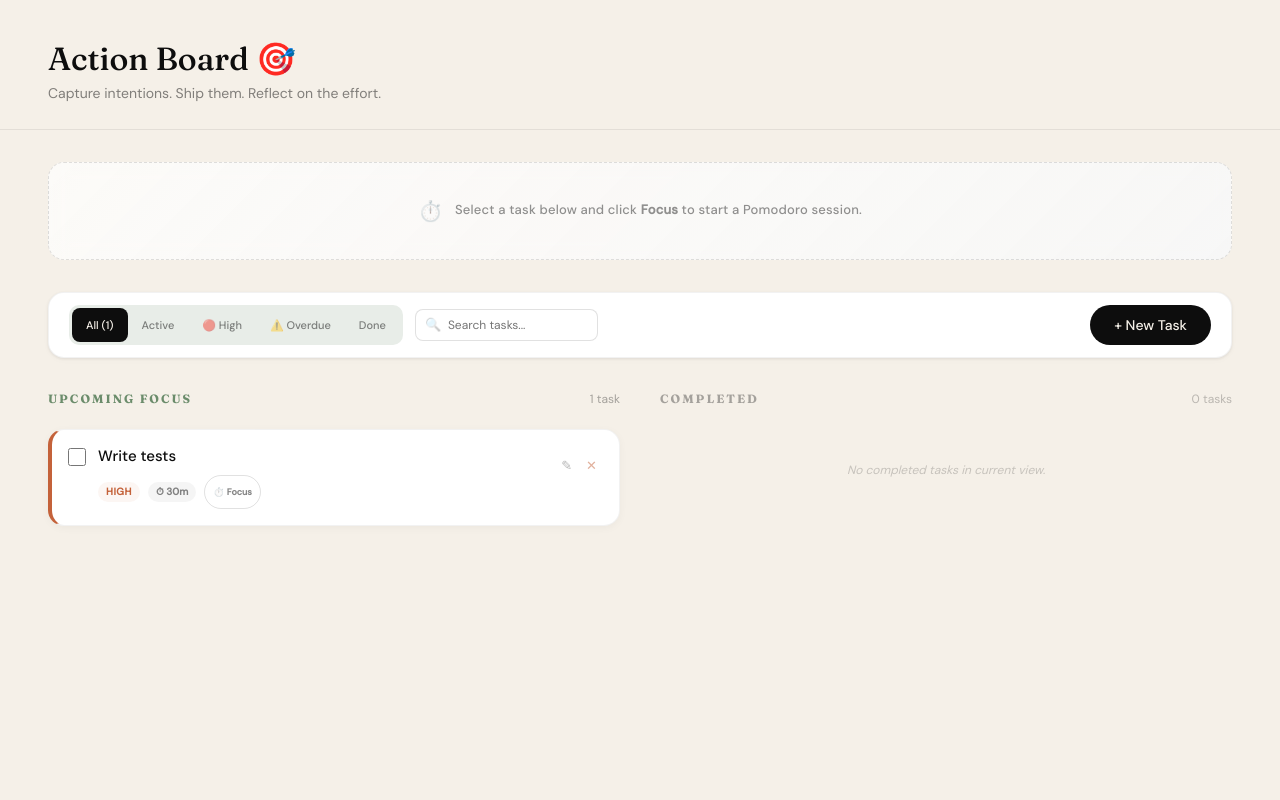
completes the focused task with the actual time
Click the button "⏱️ Focus": (233, 492) [204,475,261,509]
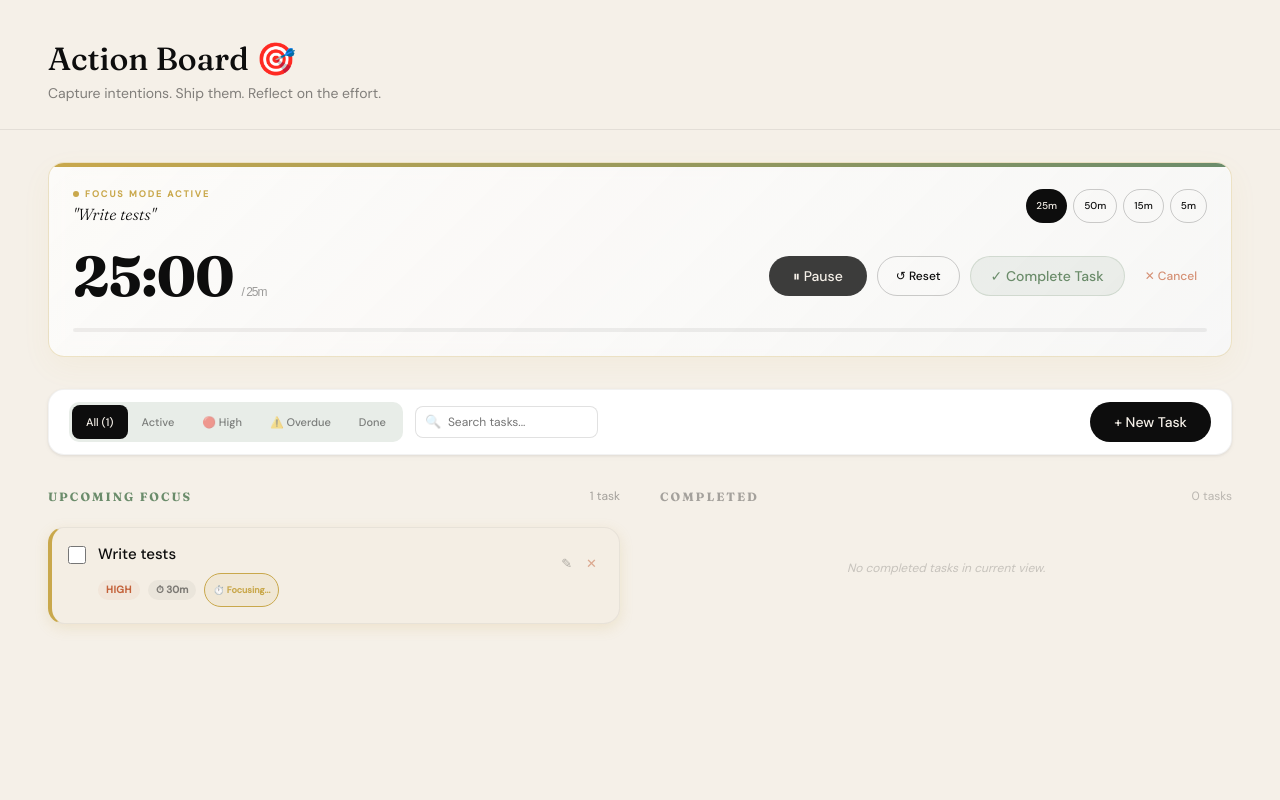
Check: the heading "\"Write tests\"" is shown, box [73,204,156,224]
Check: the text "Focus Mode Active" is shown, box [73,187,210,201]
Click the button "✓ Complete Task": (1047, 276) [970,256,1125,296]
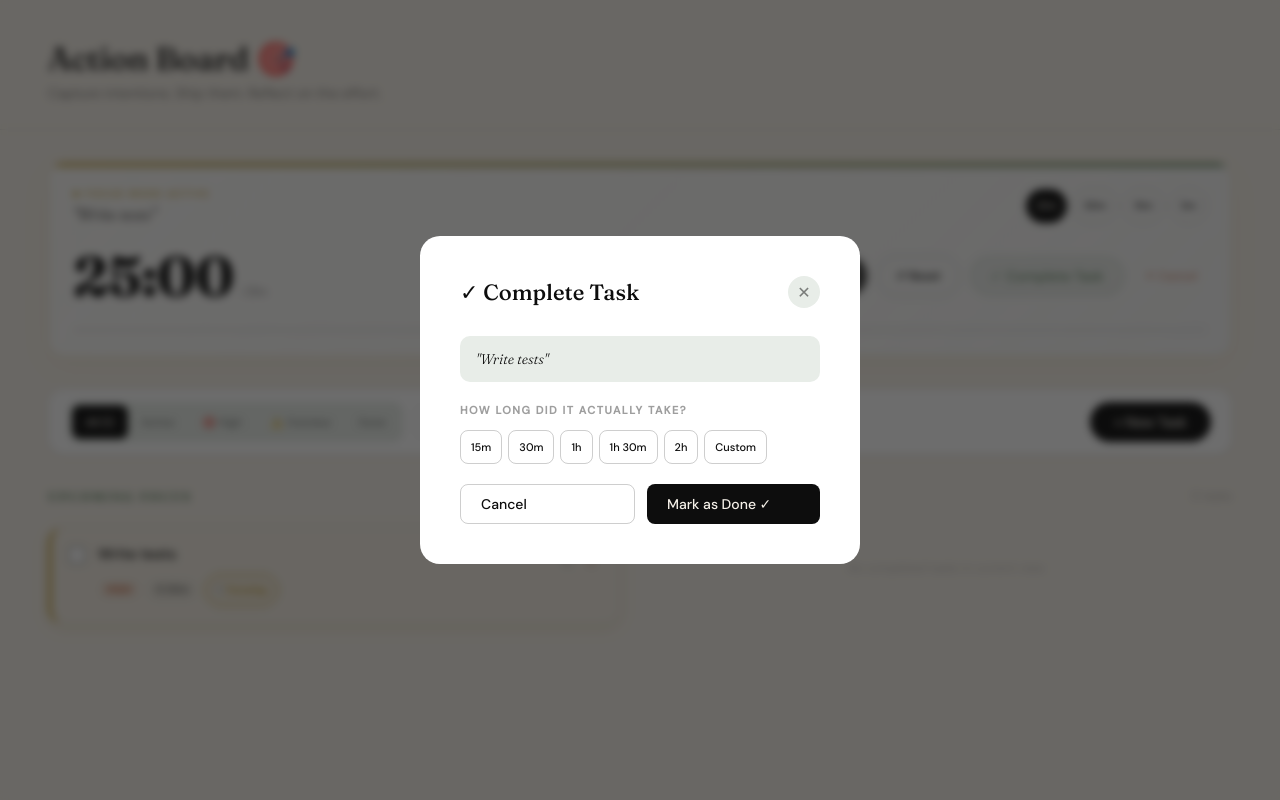
Click the button "Custom": (736, 447) [704,430,767,464]
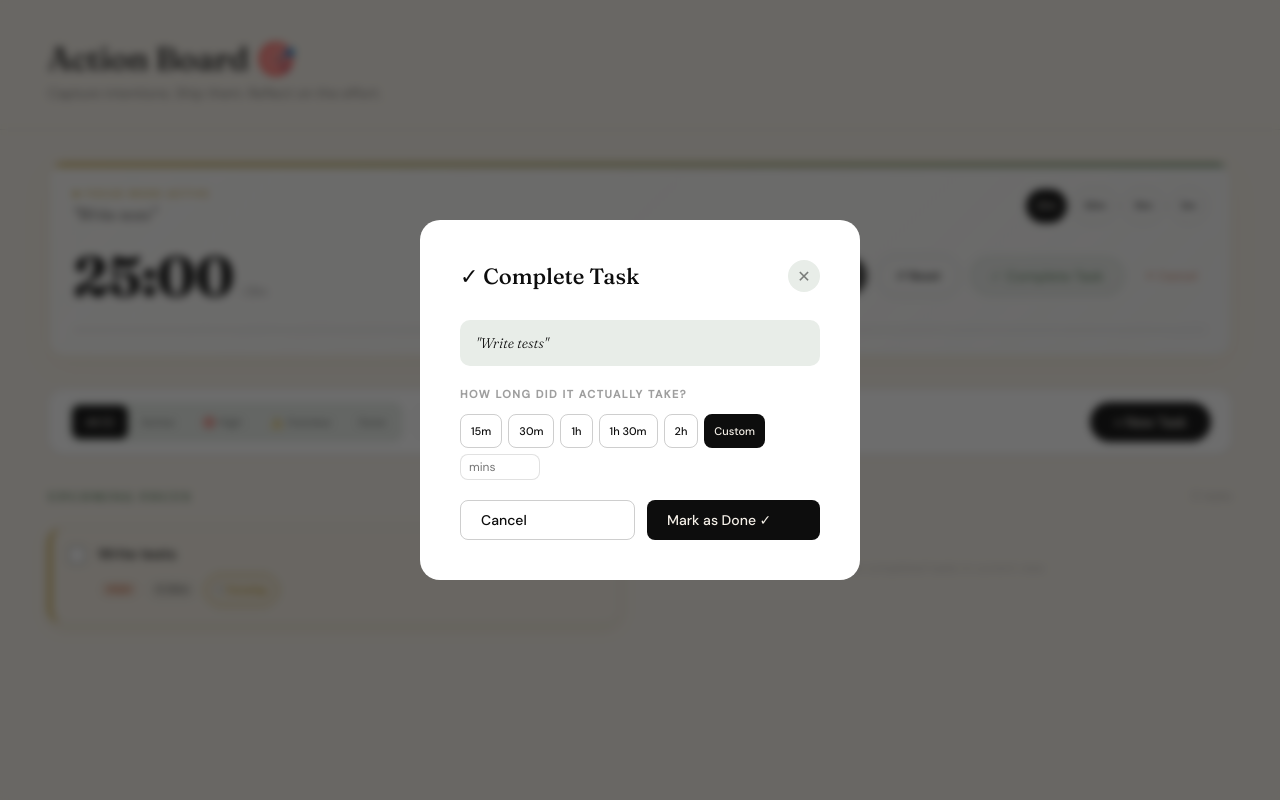
In the number field with placeholder "mins": (500, 467) [460,454,540,480], type "45"
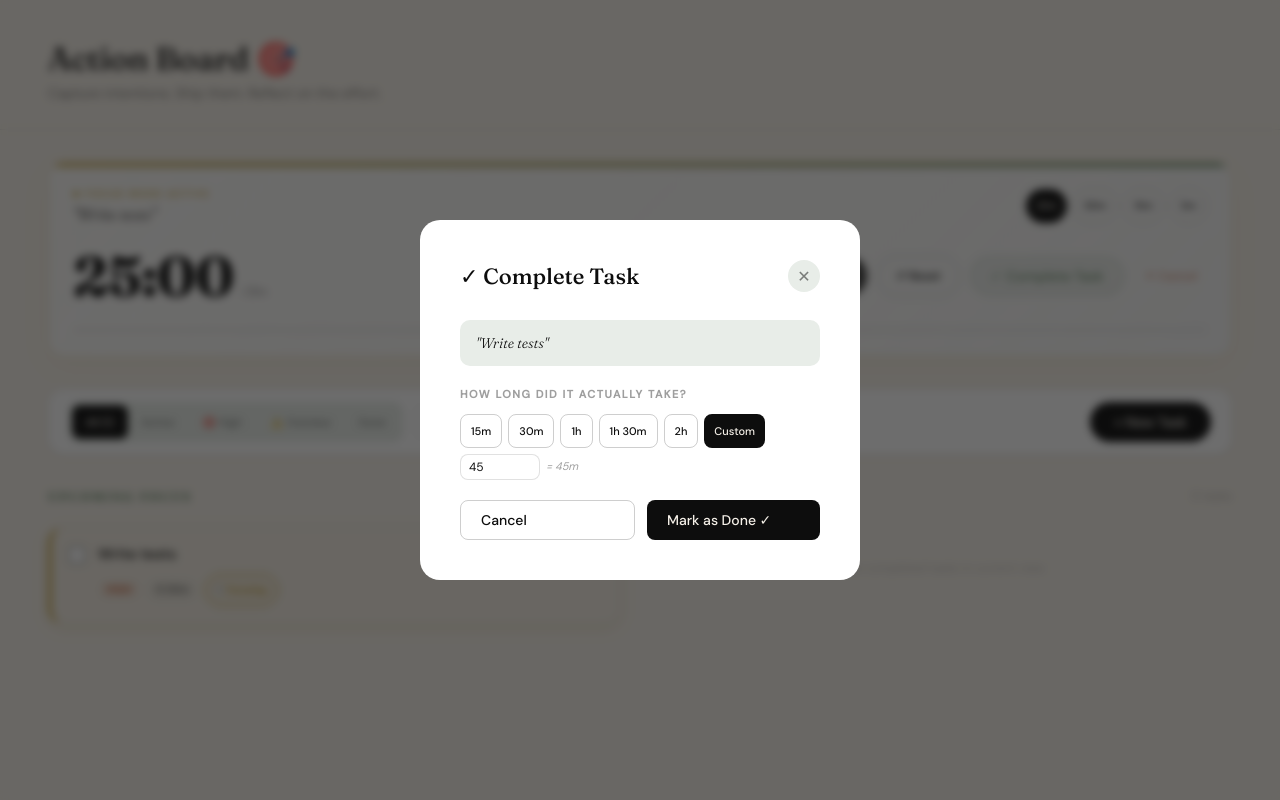
Click the button "Mark as Done ✓": (734, 520) [647,500,820,540]
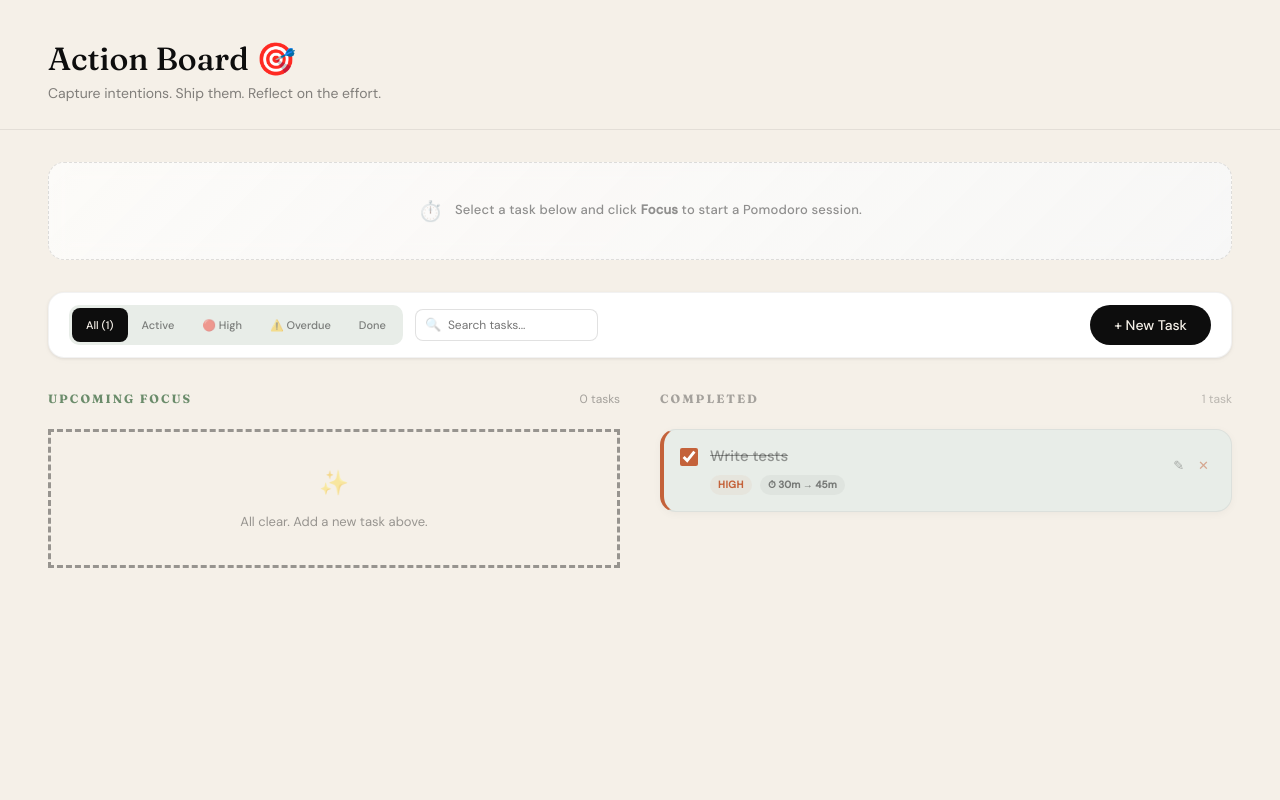
Check: the text "Select a task below" is shown, box [455,201,641,218]
